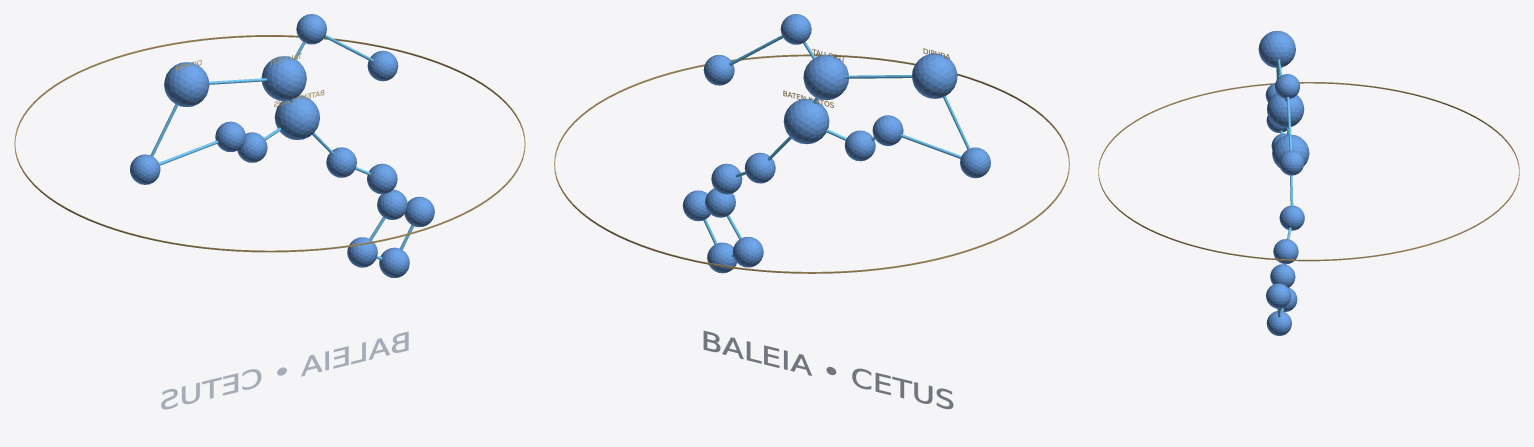
Rendered from cetus_constelacao_ra.glb.
3 views of the same model, side by side, from view 1: azimuth 30°, elevation 25°; view 2: azimuth 150°, elevation 25°; view 3: azimuth 270°, elevation 25° (orthographic). The views are drawn at different scales.
Parts seen in each view (by area): view 1: arco_celeste, titulo, estrela_10_0, estrela_11_0, estrela_6_0, estrela_9_0, estrela_12_0, estrela_8_0, estrela_1_0, estrela_5_0, estrela_4_0, estrela_13_0 (+4 smaller); view 2: arco_celeste, titulo, estrela_10_0, estrela_11_0, estrela_6_0, estrela_12_0, estrela_9_0, estrela_2_0, estrela_8_0, estrela_7_0, estrela_13_0, estrela_5_0 (+4 smaller); view 3: arco_celeste, estrela_10_0, estrela_11_0, estrela_6_0, estrela_13_0, estrela_0_0, estrela_5_0, estrela_12_0, estrela_4_0, estrela_1_0, estrela_3_0.
Boxes of the visible parts, <box> form: arco_celeste: <box>14,35,525,252</box>; titulo: <box>161,331,408,409</box>; estrela_10_0: <box>164,62,209,106</box>; estrela_11_0: <box>261,56,306,100</box>; estrela_6_0: <box>274,95,319,139</box>; estrela_9_0: <box>130,154,160,184</box>; estrela_12_0: <box>296,14,326,44</box>; estrela_8_0: <box>215,121,245,151</box>; estrela_1_0: <box>379,247,409,278</box>; estrela_5_0: <box>326,147,356,177</box>; estrela_4_0: <box>367,163,397,194</box>; estrela_13_0: <box>367,50,398,81</box>; arco_celeste: <box>554,54,1069,273</box>; titulo: <box>703,330,953,409</box>; estrela_10_0: <box>912,53,957,98</box>; estrela_11_0: <box>803,54,848,100</box>; estrela_6_0: <box>783,98,829,144</box>; estrela_12_0: <box>780,14,811,44</box>; estrela_9_0: <box>960,147,990,178</box>; estrela_2_0: <box>732,236,763,267</box>; estrela_8_0: <box>872,115,903,145</box>; estrela_7_0: <box>844,130,875,161</box>; estrela_13_0: <box>703,55,734,85</box>; estrela_5_0: <box>744,152,775,183</box>; arco_celeste: <box>1098,82,1519,261</box>; estrela_10_0: <box>1258,30,1295,67</box>; estrela_11_0: <box>1267,93,1304,127</box>; estrela_6_0: <box>1272,134,1309,167</box>; estrela_13_0: <box>1279,150,1304,175</box>; estrela_0_0: <box>1266,283,1291,308</box>; estrela_5_0: <box>1279,205,1304,230</box>; estrela_12_0: <box>1275,74,1300,98</box>; estrela_4_0: <box>1273,239,1298,264</box>; estrela_1_0: <box>1266,311,1291,335</box>; estrela_3_0: <box>1270,264,1295,287</box>.
Bounding box in the file's own units: 5.4 × 4.31 × 5.4.
Materials: 12 (4 with a texture image).
